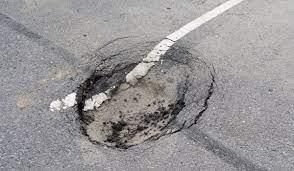crack: (66, 38, 220, 150)
